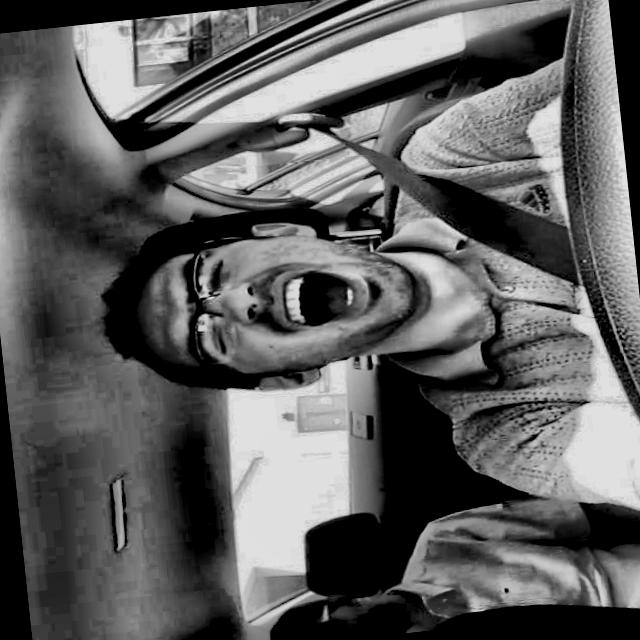closed_eyes: (192, 251, 243, 297), (198, 313, 242, 364)
open_mouth: (260, 253, 390, 342)
